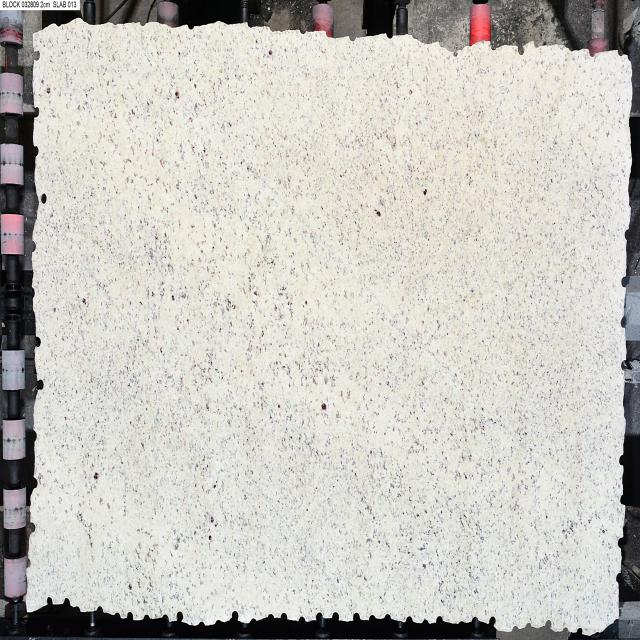chapa: (26, 18, 634, 633)
veio: (516, 44, 529, 59), (230, 609, 240, 624), (37, 378, 46, 394), (39, 192, 50, 205), (33, 335, 42, 350), (28, 519, 36, 535), (620, 274, 628, 290), (175, 608, 184, 622), (125, 610, 135, 622), (314, 611, 324, 623), (352, 611, 362, 623), (620, 358, 628, 372), (31, 106, 40, 118), (45, 596, 54, 608), (332, 610, 341, 622), (32, 49, 41, 60), (488, 615, 496, 627), (576, 626, 585, 635), (63, 596, 71, 606), (546, 620, 552, 630)
